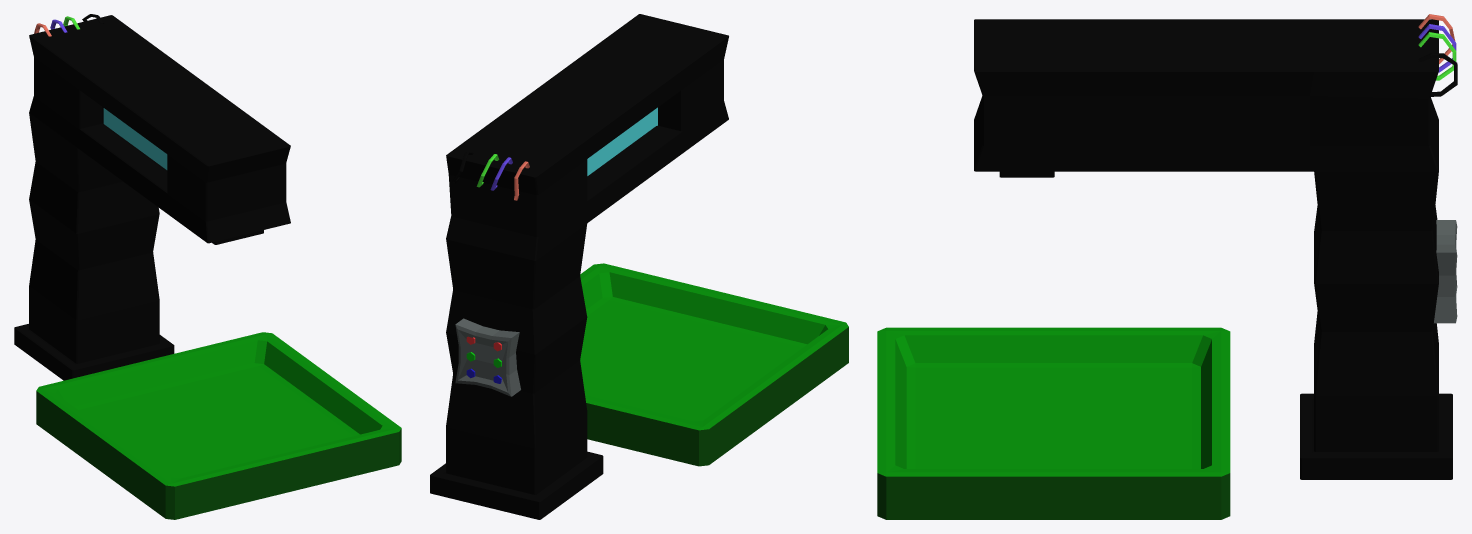
File: Tycoon.fbx
3 views of the same model, side by side, from view 1: azimuth 30°, elevation 25°; view 2: azimuth 150°, elevation 25°; view 3: azimuth 270°, elevation 25° (orthographic). The views are drawn at different scales.
Visible parts, largest first — view 1: Cube.001, Cube; view 2: Cube.001, Cube, Cube.002; view 3: Cube.001, Cube, Cube.002.
Boxes of the visible parts, left/top/right/bottom form: Cube.001: left=14, top=14, right=290, bottom=380; Cube: left=36, top=332, right=401, bottom=519; Cube.001: left=430, top=14, right=728, bottom=519; Cube: left=580, top=263, right=848, bottom=466; Cube.002: left=455, top=318, right=520, bottom=396; Cube.001: left=974, top=14, right=1457, bottom=479; Cube: left=877, top=327, right=1230, bottom=519; Cube.002: left=1434, top=220, right=1457, bottom=323.
Bounding box in the file's own units: 3195 × 4138 × 5254.
